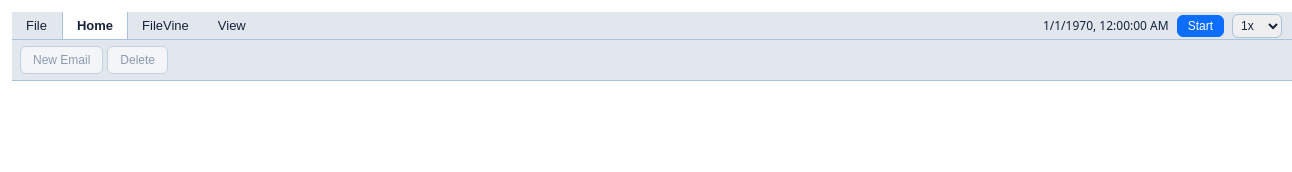
Scenario: RibbonBar › File menu (034) › clicking File again toggles the menu closed
What coordinates should you click on to do the following:
click the button "File"
I would click on:
 (37, 26)
Its box is [12,12,62,39].
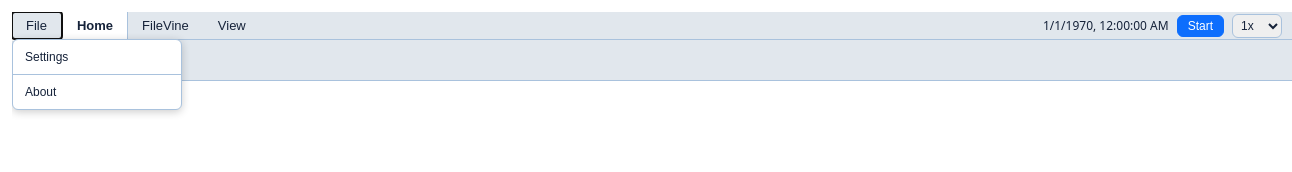
Expected: the menu is shown, [12,39,182,110]
What coordinates should you click on to do the following:
click the button "File"
I would click on:
 (37, 26)
Its box is [12,12,62,39].
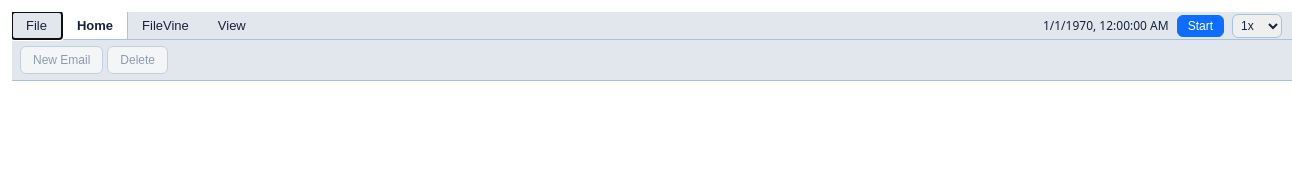
Expected: the menu is gone
